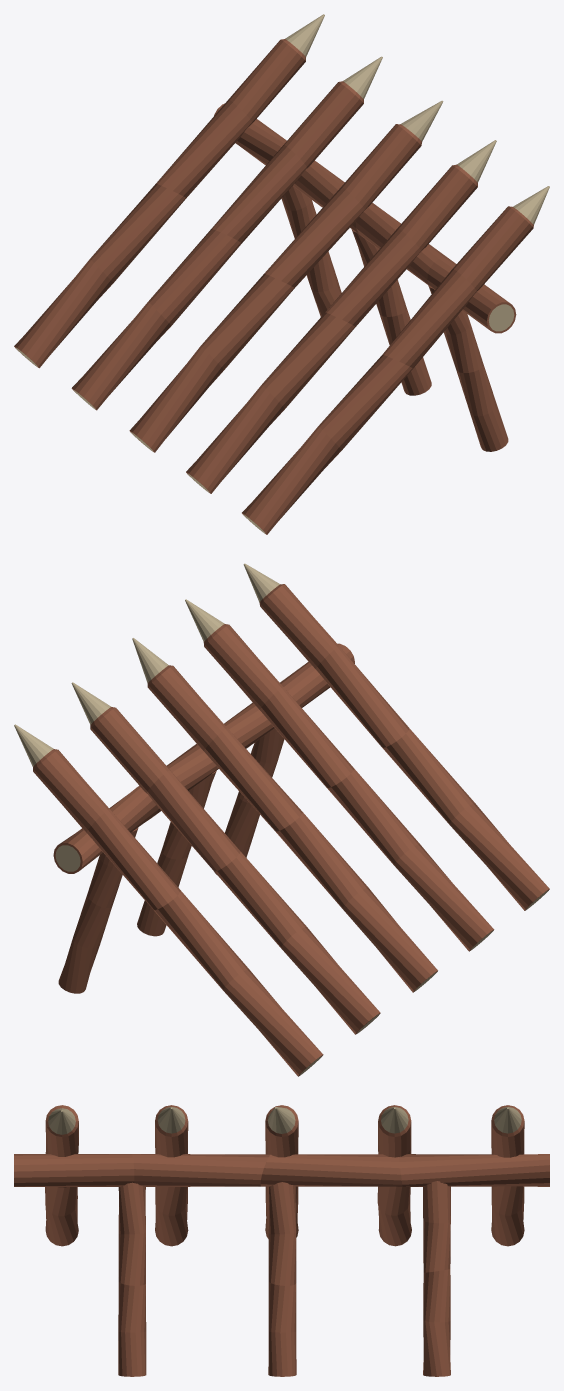
File: Herse.fbx
3 views of the same model, one above another, from view 1: azimuth 30°, elevation 25°; view 2: azimuth 150°, elevation 25°; view 3: azimuth 270°, elevation 25° (orthographic). The views are drawn at different scales.
Parts seen in each view (by area): view 1: Cylinder.001; view 2: Cylinder.001; view 3: Cylinder.001.
Boxes of the visible parts, x1,y1,x2,y2 form: Cylinder.001: (14, 14, 549, 534); Cylinder.001: (14, 563, 549, 1076); Cylinder.001: (14, 1105, 549, 1376).
Bounding box in the file's own units: 3.04 × 2.71 × 4.68.
